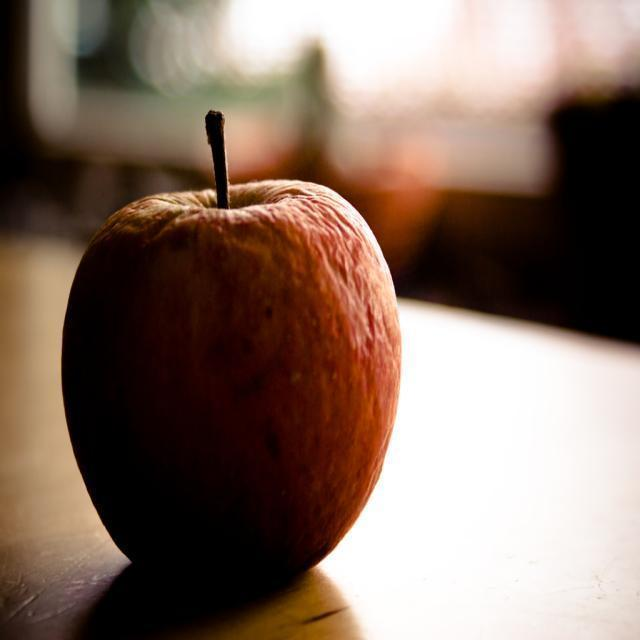Apple: (60, 108, 402, 594)
